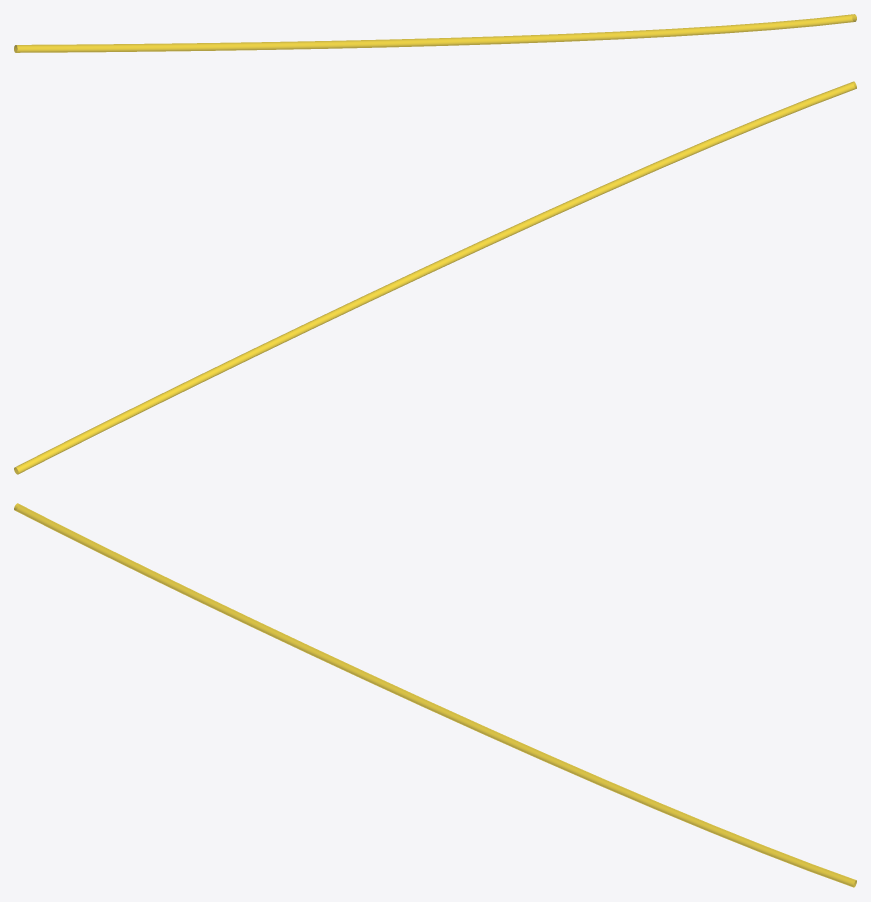
File: Event_27938768_track_32.fbx
3 views of the same model, one above another, from view 1: azimuth 30°, elevation 25°; view 2: azimuth 210°, elevation 25°; view 3: azimuth 330°, elevation 25° (orthographic).
Parts seen in each view (by area): view 1: Model; view 2: Model; view 3: Model.
Part boxes in pixels (left/top/right/bottom): Model: left=14, top=14, right=856, bottom=52; Model: left=14, top=81, right=856, bottom=474; Model: left=14, top=503, right=856, bottom=887.
Bounding box in the file's own units: 4.9 × 1.02 × 0.1651.
